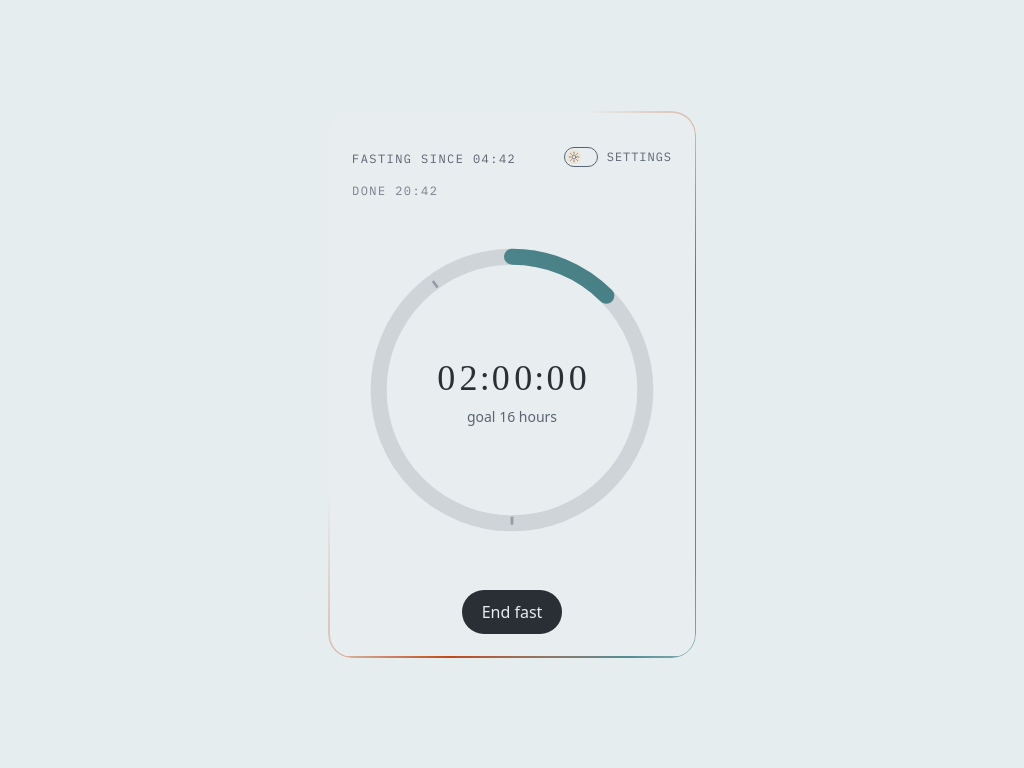
it: <Timer> active fast › ending a fast returns to idle without a page reload and records history
Click the button "End fast" at (512,612), box [462, 590, 562, 634]
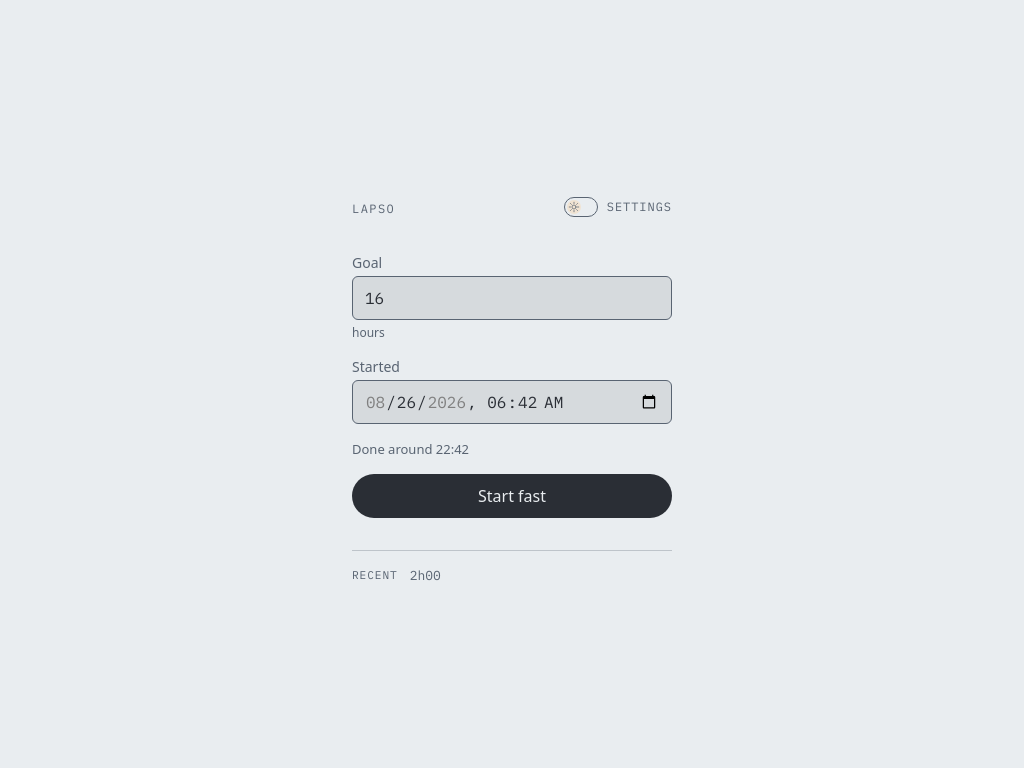
Now the button "Start fast" is shown, box [352, 474, 672, 518]
